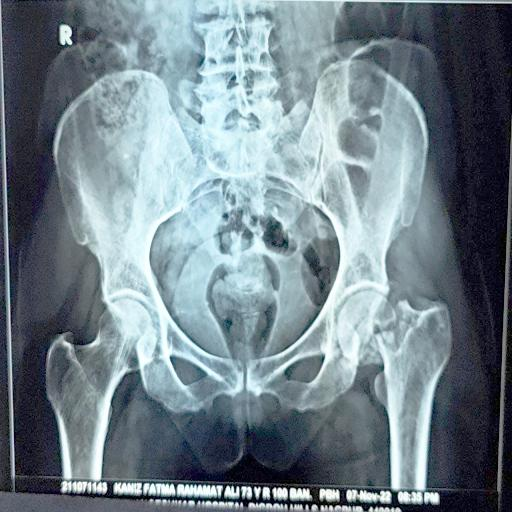neck: (375, 297, 451, 470), (338, 290, 397, 365)
normal: (46, 298, 156, 476)
